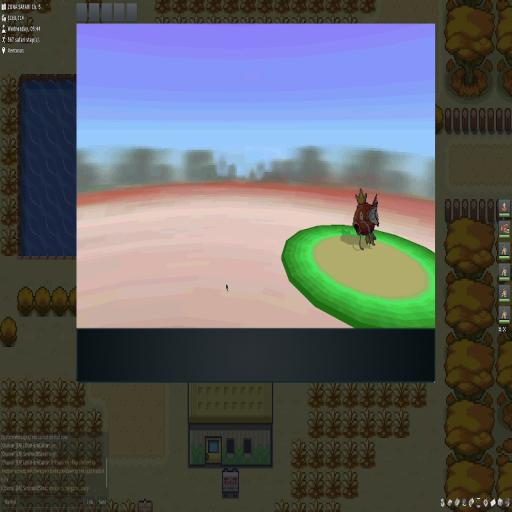MAGIKARP: (352, 188, 380, 251)
